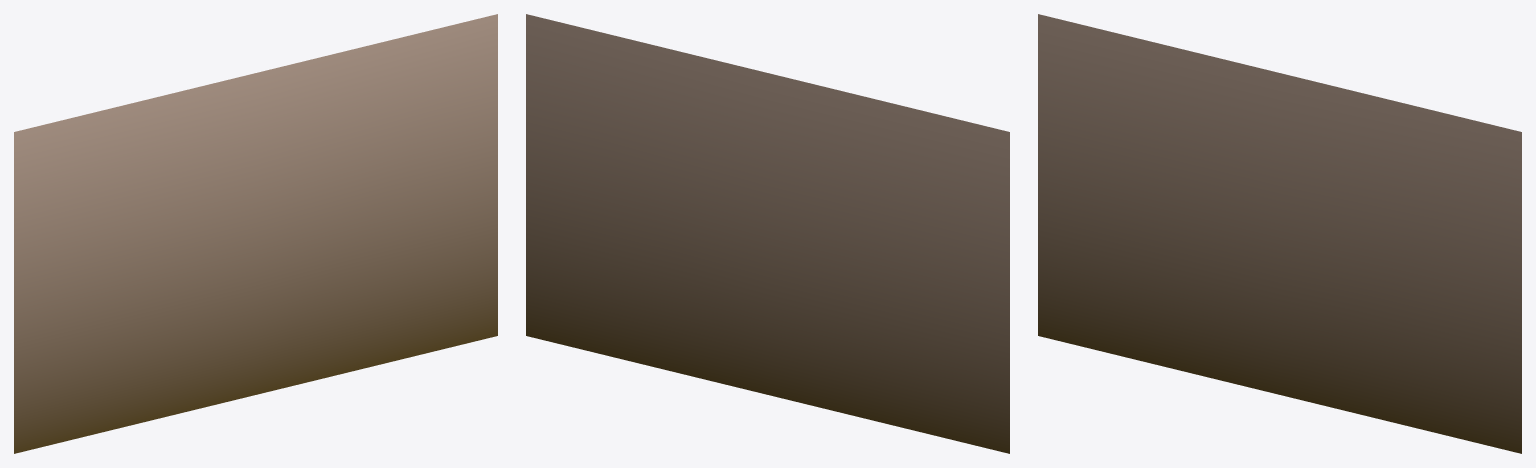
Rendered from mapWall.glb.
3 renders of one model, left to right at view 1: azimuth 30°, elevation 25°; view 2: azimuth 150°, elevation 25°; view 3: azimuth 330°, elevation 25°, orthographic.
Parts seen in each view (by area): view 1: Map Wall; view 2: Map Wall; view 3: Map Wall.
Part boxes in pixels (bbox=[...]): Map Wall: bbox=[14, 14, 497, 453]; Map Wall: bbox=[526, 14, 1009, 453]; Map Wall: bbox=[1038, 14, 1521, 453].
Size of the model in its own units: 2 by 1.27 by 0.
